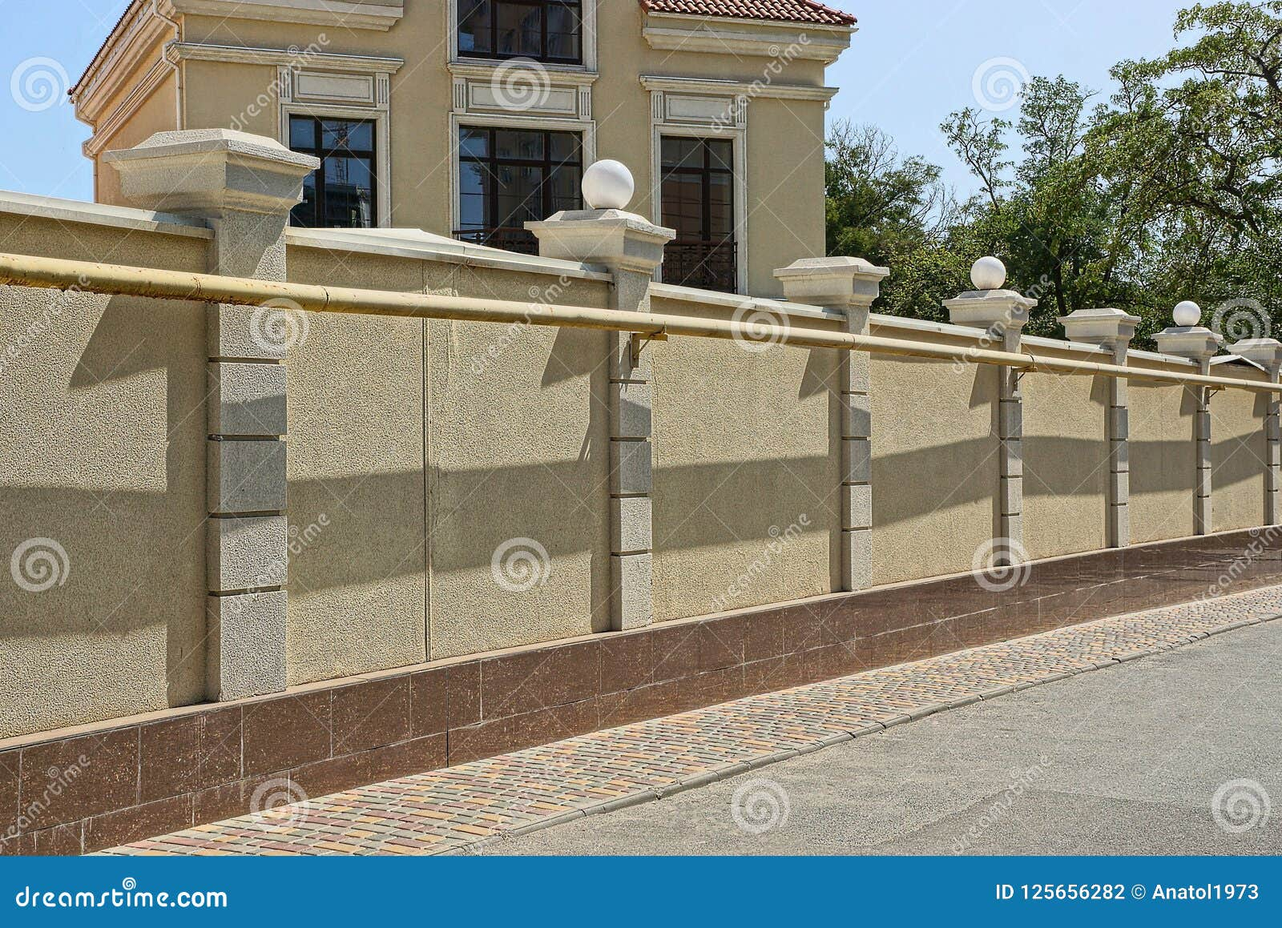Fence: (18, 187, 1282, 789)
